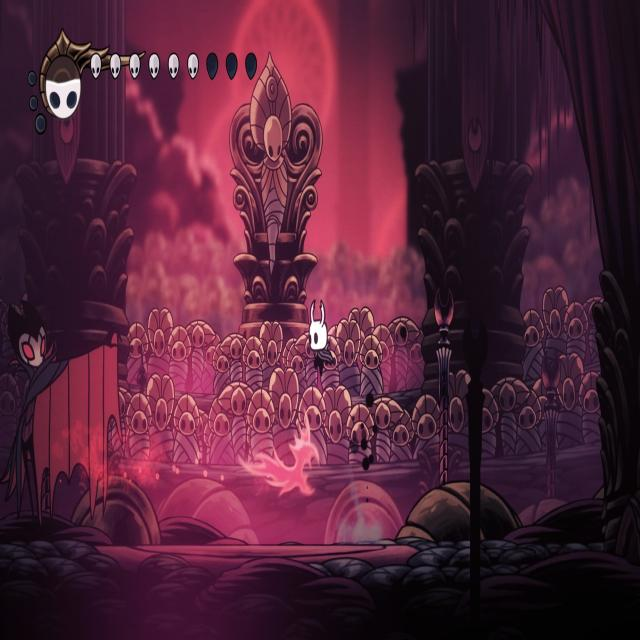Fire Bat: (248, 400, 316, 500)
Open Cloak: (0, 284, 124, 542)
Player: (307, 297, 333, 379)
